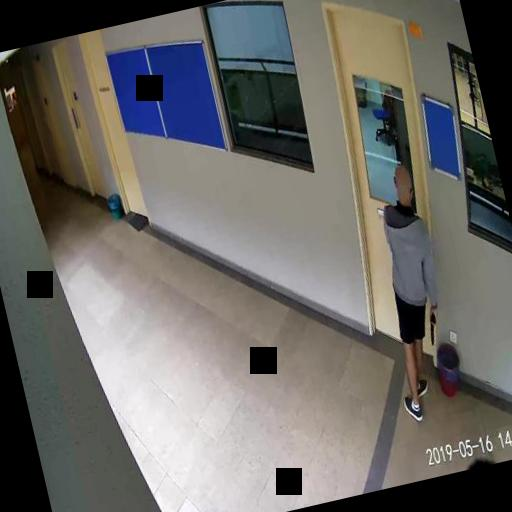Handgun: (423, 306, 442, 345)
